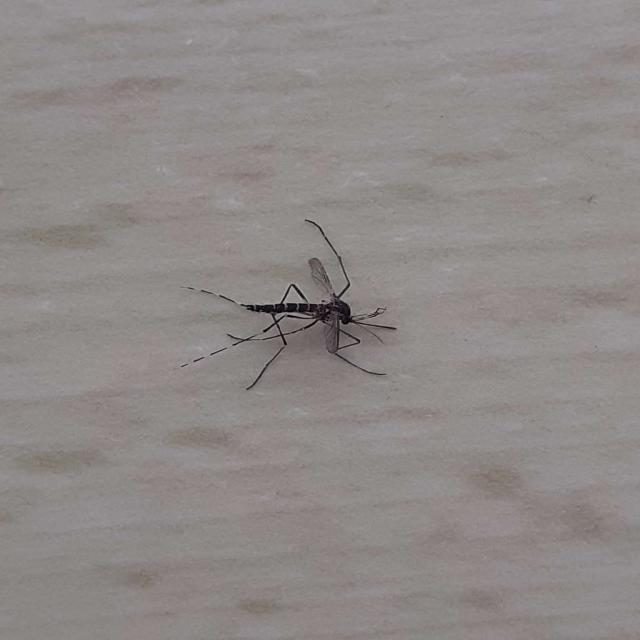albopictus: (169, 215, 400, 392)
